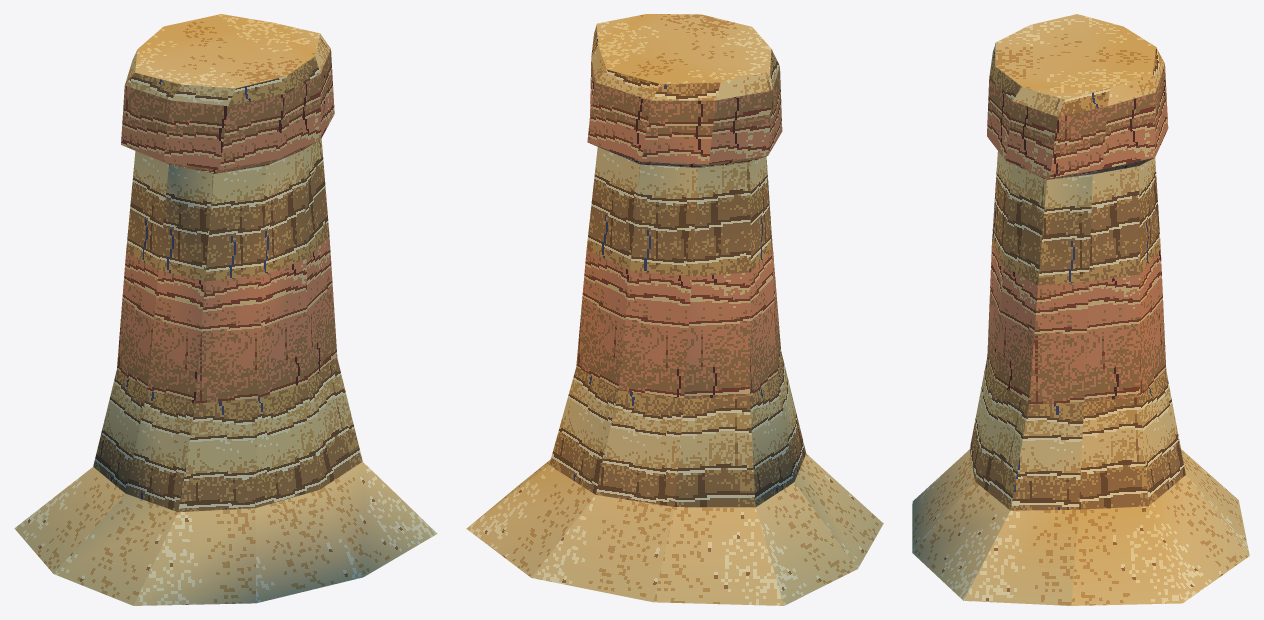
File: wland.butte.glb
3 views of the same model, side by side, from view 1: azimuth 30°, elevation 25°; view 2: azimuth 150°, elevation 25°; view 3: azimuth 270°, elevation 25° (orthographic).
Parts seen in each view (by area): view 1: kit_butte; view 2: kit_butte; view 3: kit_butte.
Part boxes in pixels (bbox=[...]): kit_butte: bbox=[14, 14, 437, 605]; kit_butte: bbox=[466, 14, 883, 605]; kit_butte: bbox=[912, 14, 1249, 605].
Bounding box in the file's own units: 10.41 × 14 × 9.12.
4 materials, 4 textured.
